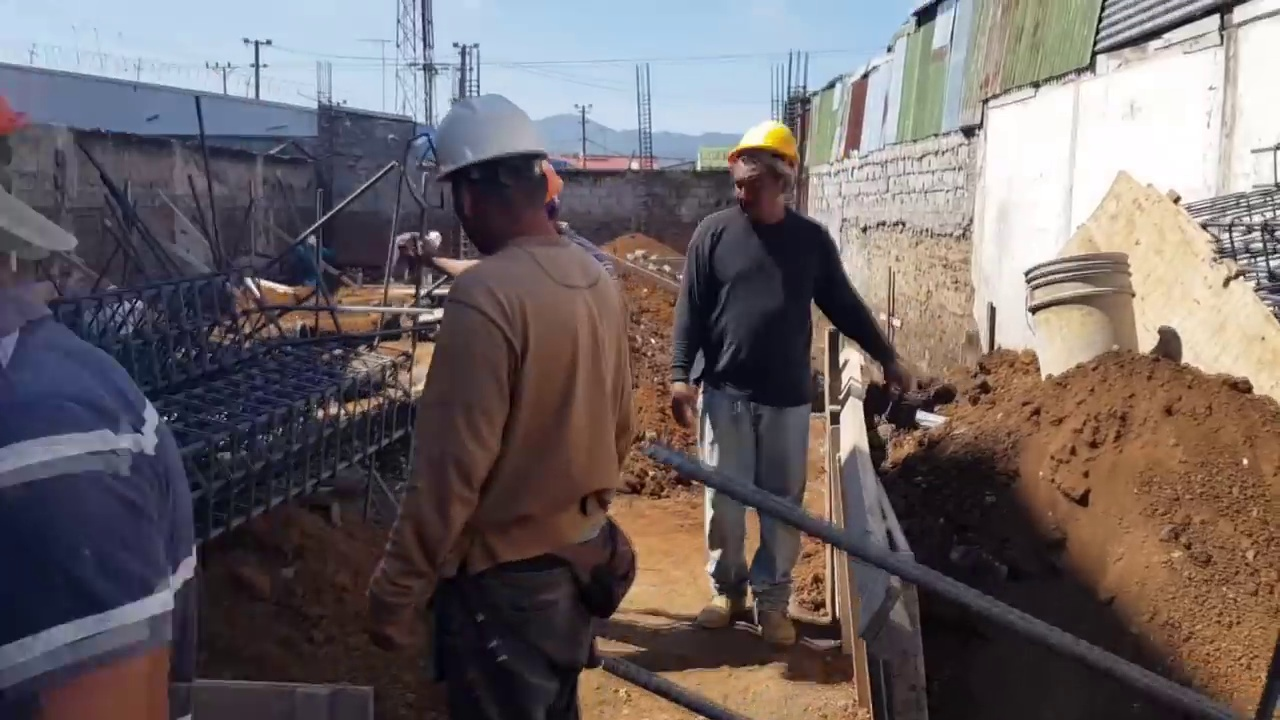helmet: (418, 89, 553, 184), (728, 110, 803, 174)
helmet-on: (420, 90, 554, 260), (2, 101, 79, 303), (725, 120, 806, 223)
person: (669, 120, 909, 649), (0, 95, 200, 718)
